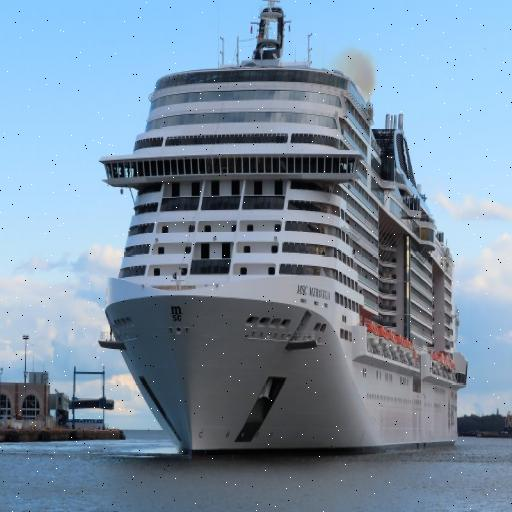cruises: (95, 1, 477, 463)
